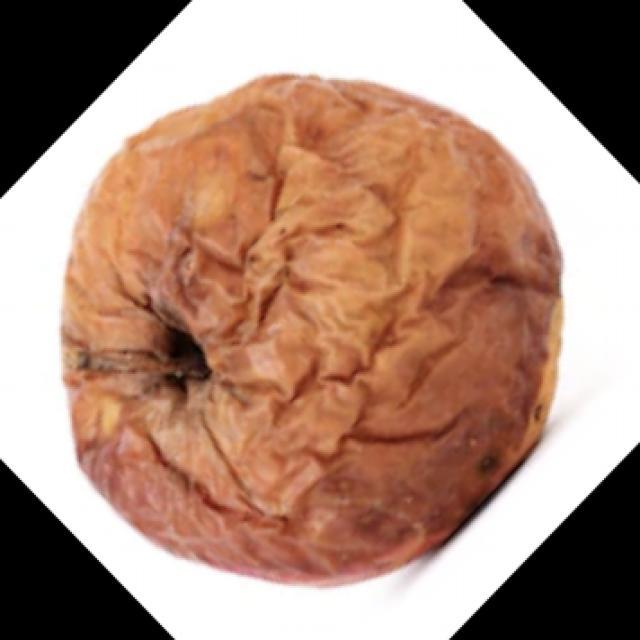Rotten: (78, 87, 537, 585)
